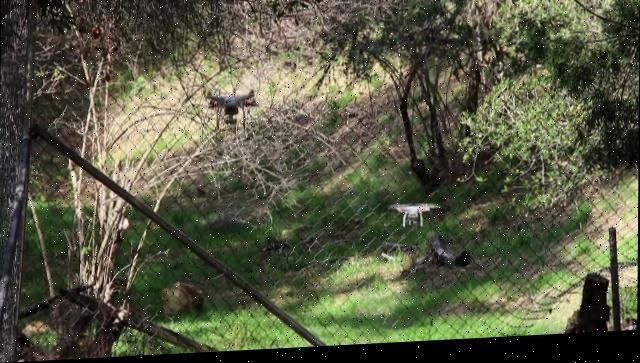drone: (202, 88, 257, 129), (388, 204, 446, 234)
